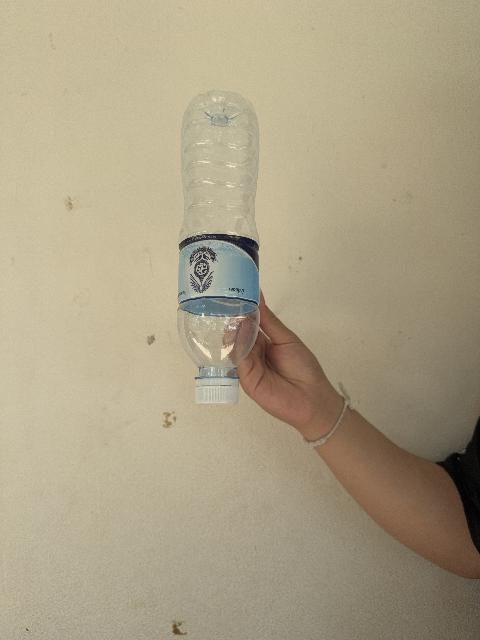bottle: (178, 91, 259, 403)
